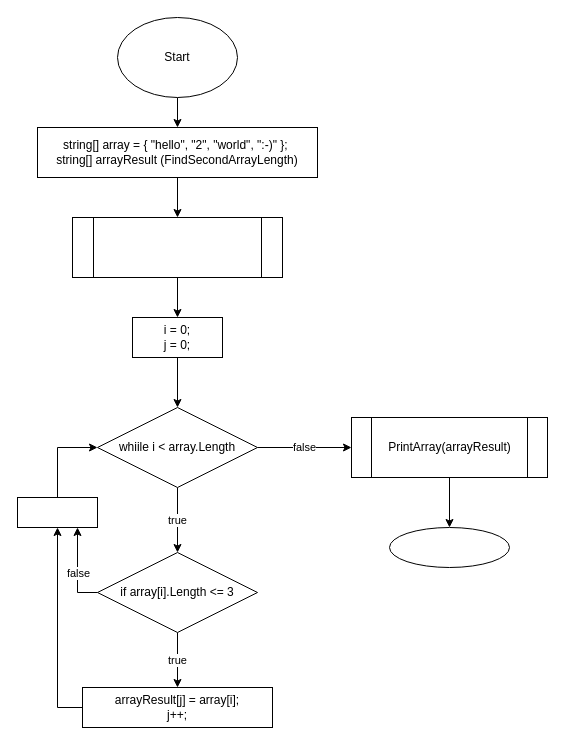
This 565x745 diagram has some shape labels left out. Here are the shapes that lost their labels. From the top down, the box of each, then its label:
(72, 216, 282, 278): FindSecondArrayLength(array)
(16, 496, 98, 528): i++;
(388, 526, 510, 568): End
